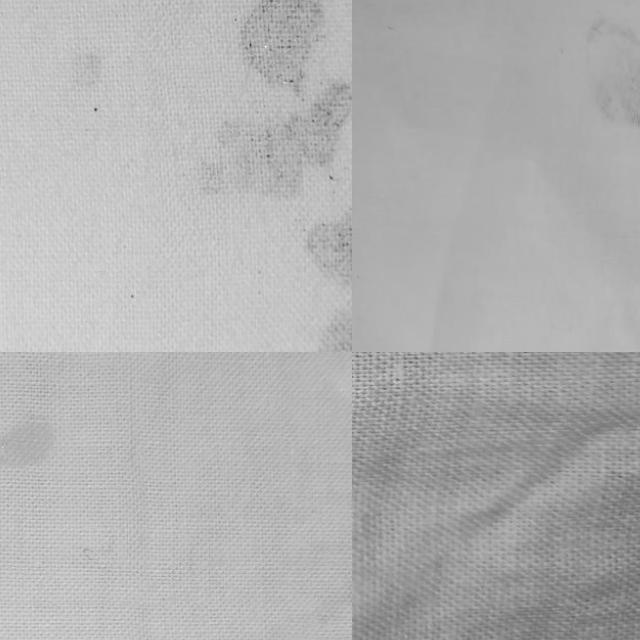Thread_other: (181, 0, 352, 352), (548, 0, 640, 184)
